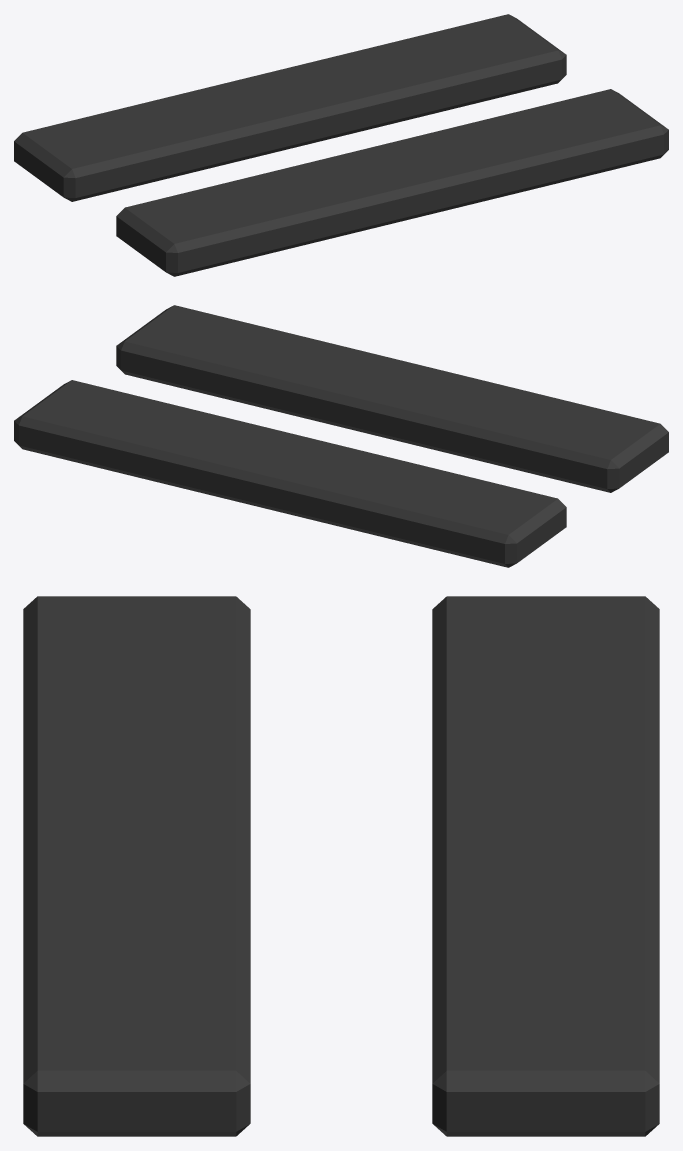
File: LamTeto1.fbx
3 renders of one model, top to bottom at view 1: azimuth 30°, elevation 25°; view 2: azimuth 150°, elevation 25°; view 3: azimuth 270°, elevation 25°, orthographic. The views are drawn at different scales.
Parts seen in each view (by area): view 1: Cube.001; view 2: Cube.001; view 3: Cube.001.
Part boxes in pixels (x1=…): Cube.001: x1=14, y1=14, x2=668, y2=276; Cube.001: x1=14, y1=305, x2=668, y2=567; Cube.001: x1=23, y1=596, x2=659, y2=1136.
Bounding box in the file's own units: 492 × 30.82 × 270.
